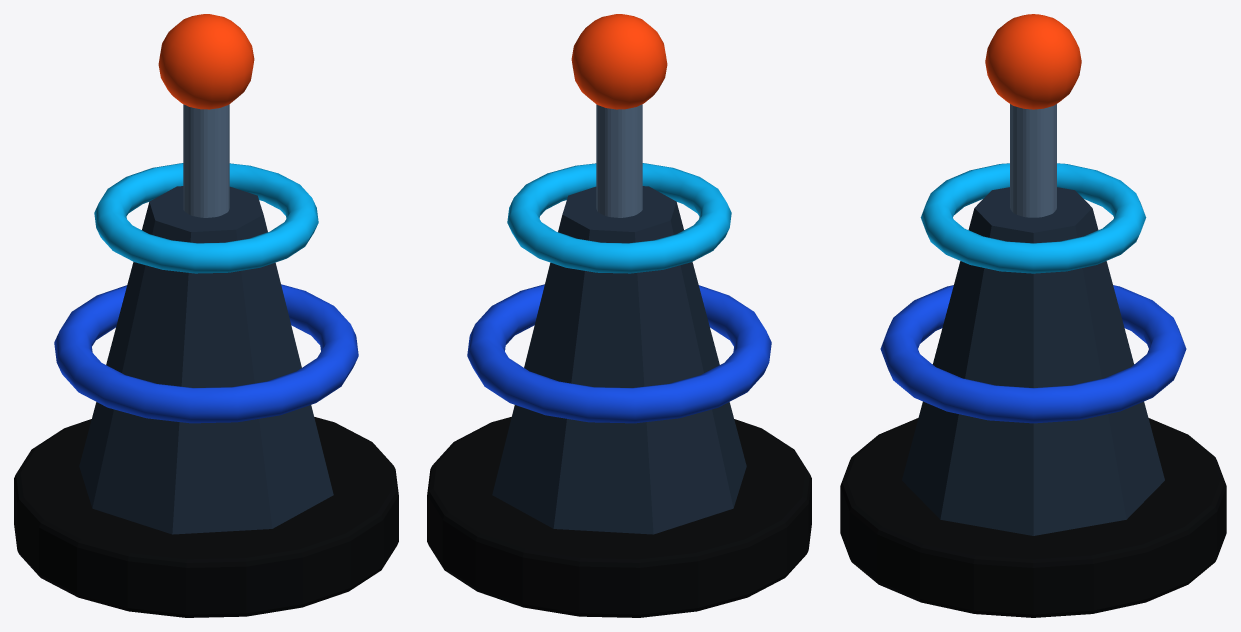
File: frontier_relay.obj
3 views of the same model, side by side, from view 1: azimuth 30°, elevation 25°; view 2: azimuth 150°, elevation 25°; view 3: azimuth 270°, elevation 25° (orthographic).
Parts seen in each view (by area): view 1: relay_tower_M_gunmetal, relay_base_M_black, relay_ring_low_M_azure, relay_ring_high_M_cyan, relay_node_M_orange, relay_mast_M_steel; view 2: relay_tower_M_gunmetal, relay_base_M_black, relay_ring_low_M_azure, relay_ring_high_M_cyan, relay_node_M_orange, relay_mast_M_steel; view 3: relay_tower_M_gunmetal, relay_base_M_black, relay_ring_low_M_azure, relay_ring_high_M_cyan, relay_node_M_orange, relay_mast_M_steel.
Boxes of the visible parts, left/top/right/bottom form: relay_tower_M_gunmetal: left=79, top=186, right=333, bottom=534; relay_base_M_black: left=14, top=417, right=398, bottom=617; relay_ring_low_M_azure: left=54, top=284, right=358, bottom=423; relay_ring_high_M_cyan: left=94, top=163, right=318, bottom=273; relay_node_M_orange: left=158, top=14, right=254, bottom=109; relay_mast_M_steel: left=183, top=104, right=229, bottom=217; relay_tower_M_gunmetal: left=492, top=186, right=746, bottom=534; relay_base_M_black: left=427, top=417, right=811, bottom=617; relay_ring_low_M_azure: left=467, top=284, right=771, bottom=423; relay_ring_high_M_cyan: left=507, top=163, right=731, bottom=273; relay_node_M_orange: left=571, top=14, right=667, bottom=109; relay_mast_M_steel: left=596, top=104, right=642, bottom=217; relay_tower_M_gunmetal: left=902, top=187, right=1164, bottom=535; relay_base_M_black: left=840, top=418, right=1226, bottom=617; relay_ring_low_M_azure: left=880, top=285, right=1186, bottom=423; relay_ring_high_M_cyan: left=920, top=163, right=1146, bottom=273; relay_node_M_orange: left=985, top=14, right=1081, bottom=109; relay_mast_M_steel: left=1010, top=104, right=1056, bottom=217.
Size of the model in its own units: 0.72 by 1.07 by 0.72.
